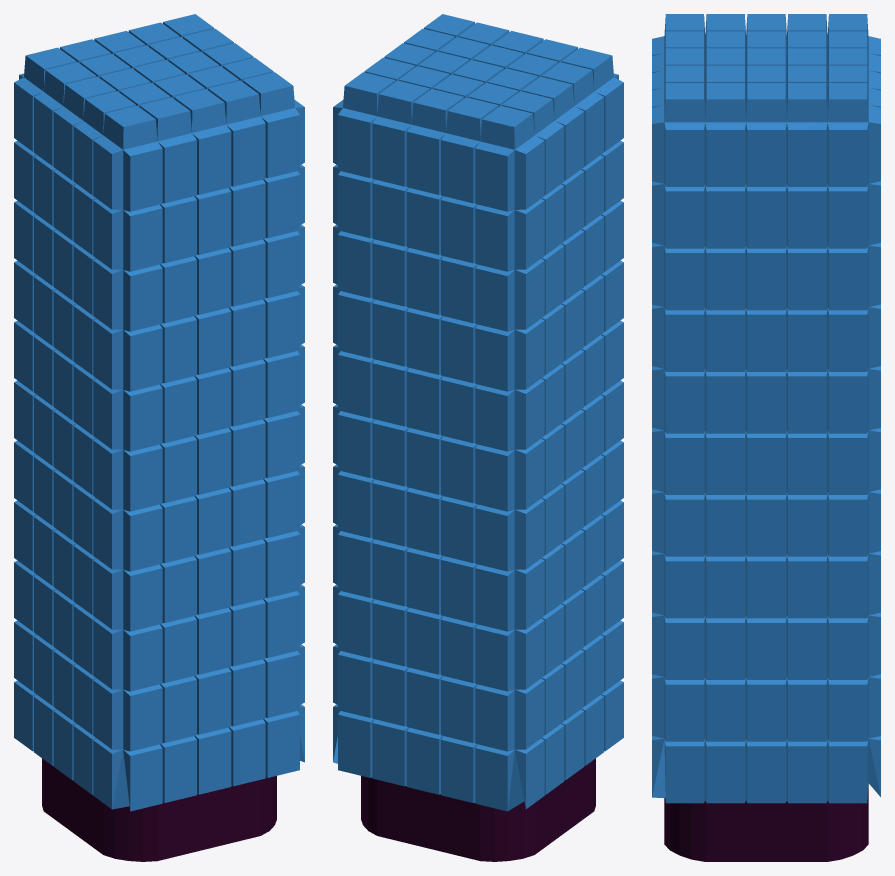
File: Building4House.fbx
The picture shows the model from 3 angles, left to right: view 1: azimuth 30°, elevation 25°; view 2: azimuth 150°, elevation 25°; view 3: azimuth 270°, elevation 25°; orthographic projection. The views are drawn at different scales.
Parts seen in each view (by area): view 1: EdificioConErroresAbajo, Building4Bottom; view 2: EdificioConErroresAbajo, Building4Bottom; view 3: EdificioConErroresAbajo, Building4Bottom.
Boxes of the visible parts, left/top/right/bottom form: EdificioConErroresAbajo: left=14, top=14, right=304, bottom=811; Building4Bottom: left=42, top=758, right=276, bottom=861; EdificioConErroresAbajo: left=333, top=14, right=623, bottom=811; Building4Bottom: left=361, top=758, right=595, bottom=861; EdificioConErroresAbajo: left=652, top=14, right=880, bottom=803; Building4Bottom: left=664, top=783, right=868, bottom=861.
Bounding box in the file's own units: 898 × 3298 × 898.
2 materials, 2 textured.
